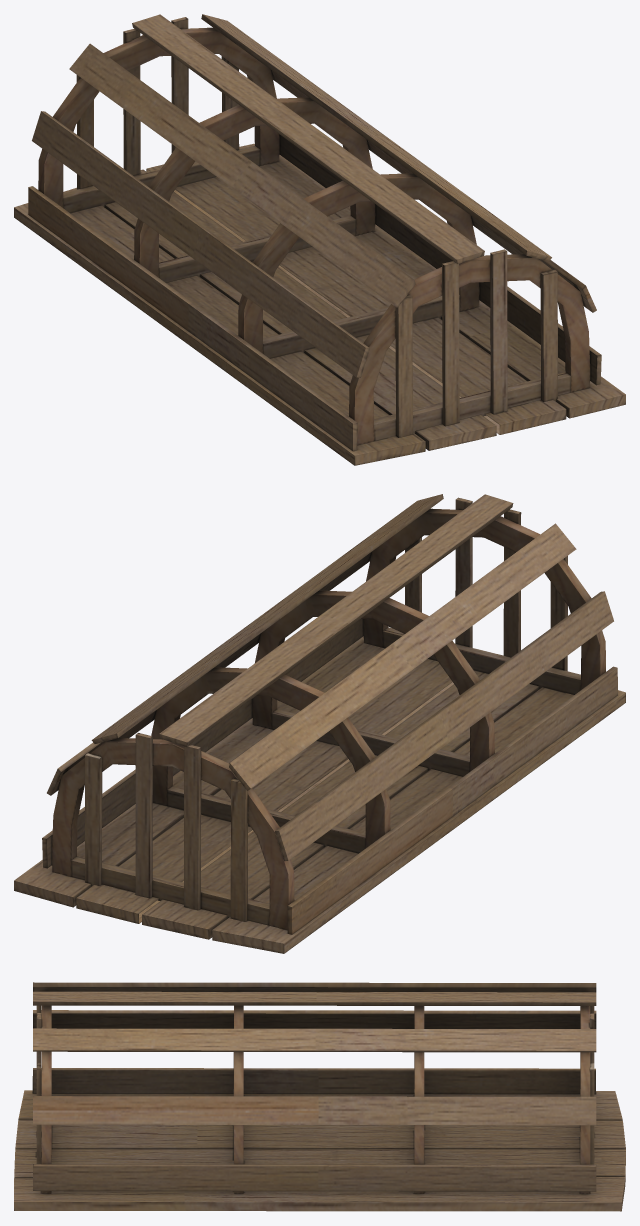
The model's file is woodcage_two.fbx.
3 views of the same model, one above another, from view 1: azimuth 30°, elevation 25°; view 2: azimuth 150°, elevation 25°; view 3: azimuth 270°, elevation 25° (orthographic). The views are drawn at different scales.
Parts seen in each view (by area): view 1: B3_Mulan; view 2: B3_Mulan; view 3: B3_Mulan.
Part boxes in pixels (x1,y1,x2,y2): B3_Mulan: (14, 14, 625, 465); B3_Mulan: (14, 494, 625, 953); B3_Mulan: (14, 982, 625, 1211).
Size of the model in its own units: 72.15 by 46.46 by 166.
1 material, 1 textured.
